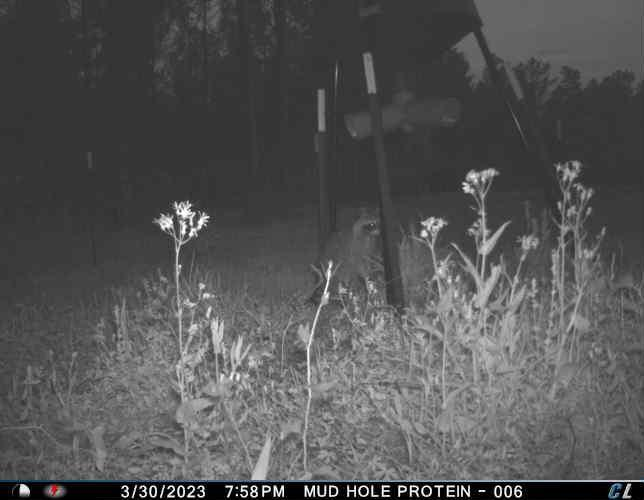Raccoon: (320, 200, 384, 301)
